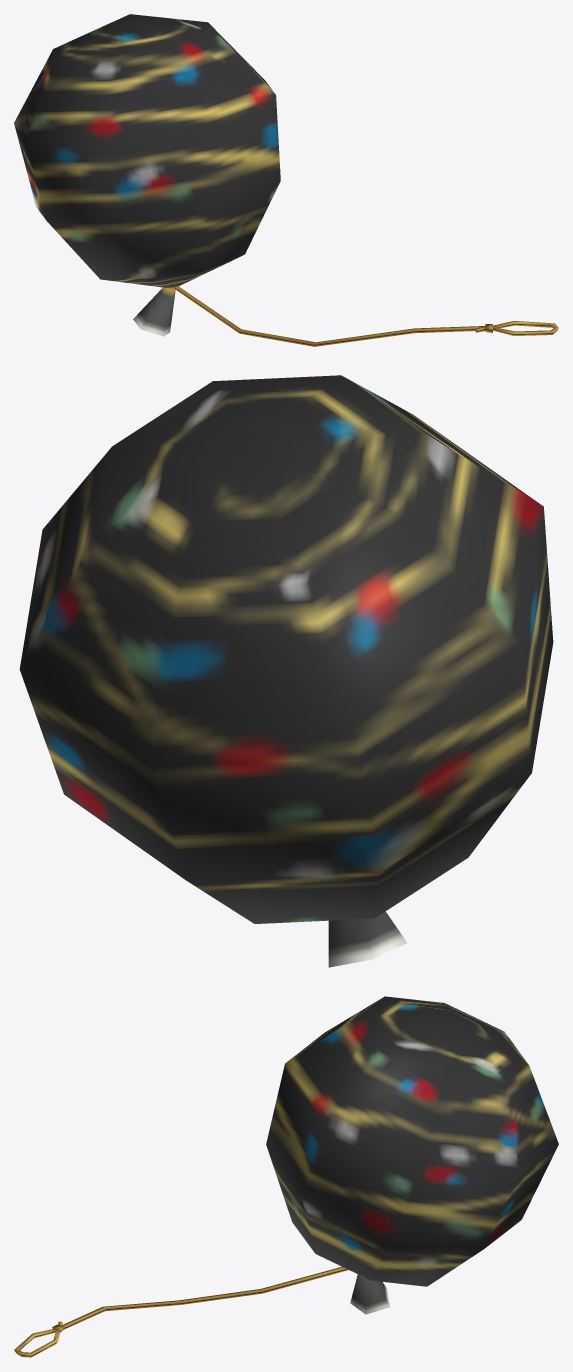
Rendered from jsf_WaterBalloon_03_d.fbx.
The picture shows the model from 3 angles, top to bottom: view 1: azimuth 30°, elevation 25°; view 2: azimuth 150°, elevation 25°; view 3: azimuth 270°, elevation 25°; orthographic projection. The views are drawn at different scales.
Visible parts, largest first — view 1: jsf_WaterBalloon_03_d; view 2: jsf_WaterBalloon_03_d; view 3: jsf_WaterBalloon_03_d.
Part boxes in pixels (x1,y1,x2,y2): jsf_WaterBalloon_03_d: [14, 14, 558, 346]; jsf_WaterBalloon_03_d: [19, 375, 553, 967]; jsf_WaterBalloon_03_d: [14, 996, 558, 1357].
Size of the model in its own units: 15.63 by 12.55 by 20.67.
